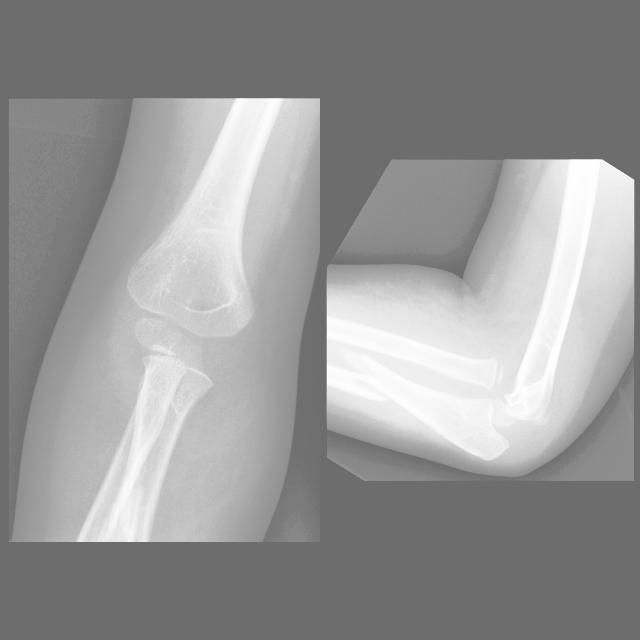Fracture Dislocation: (467, 353, 541, 448)
